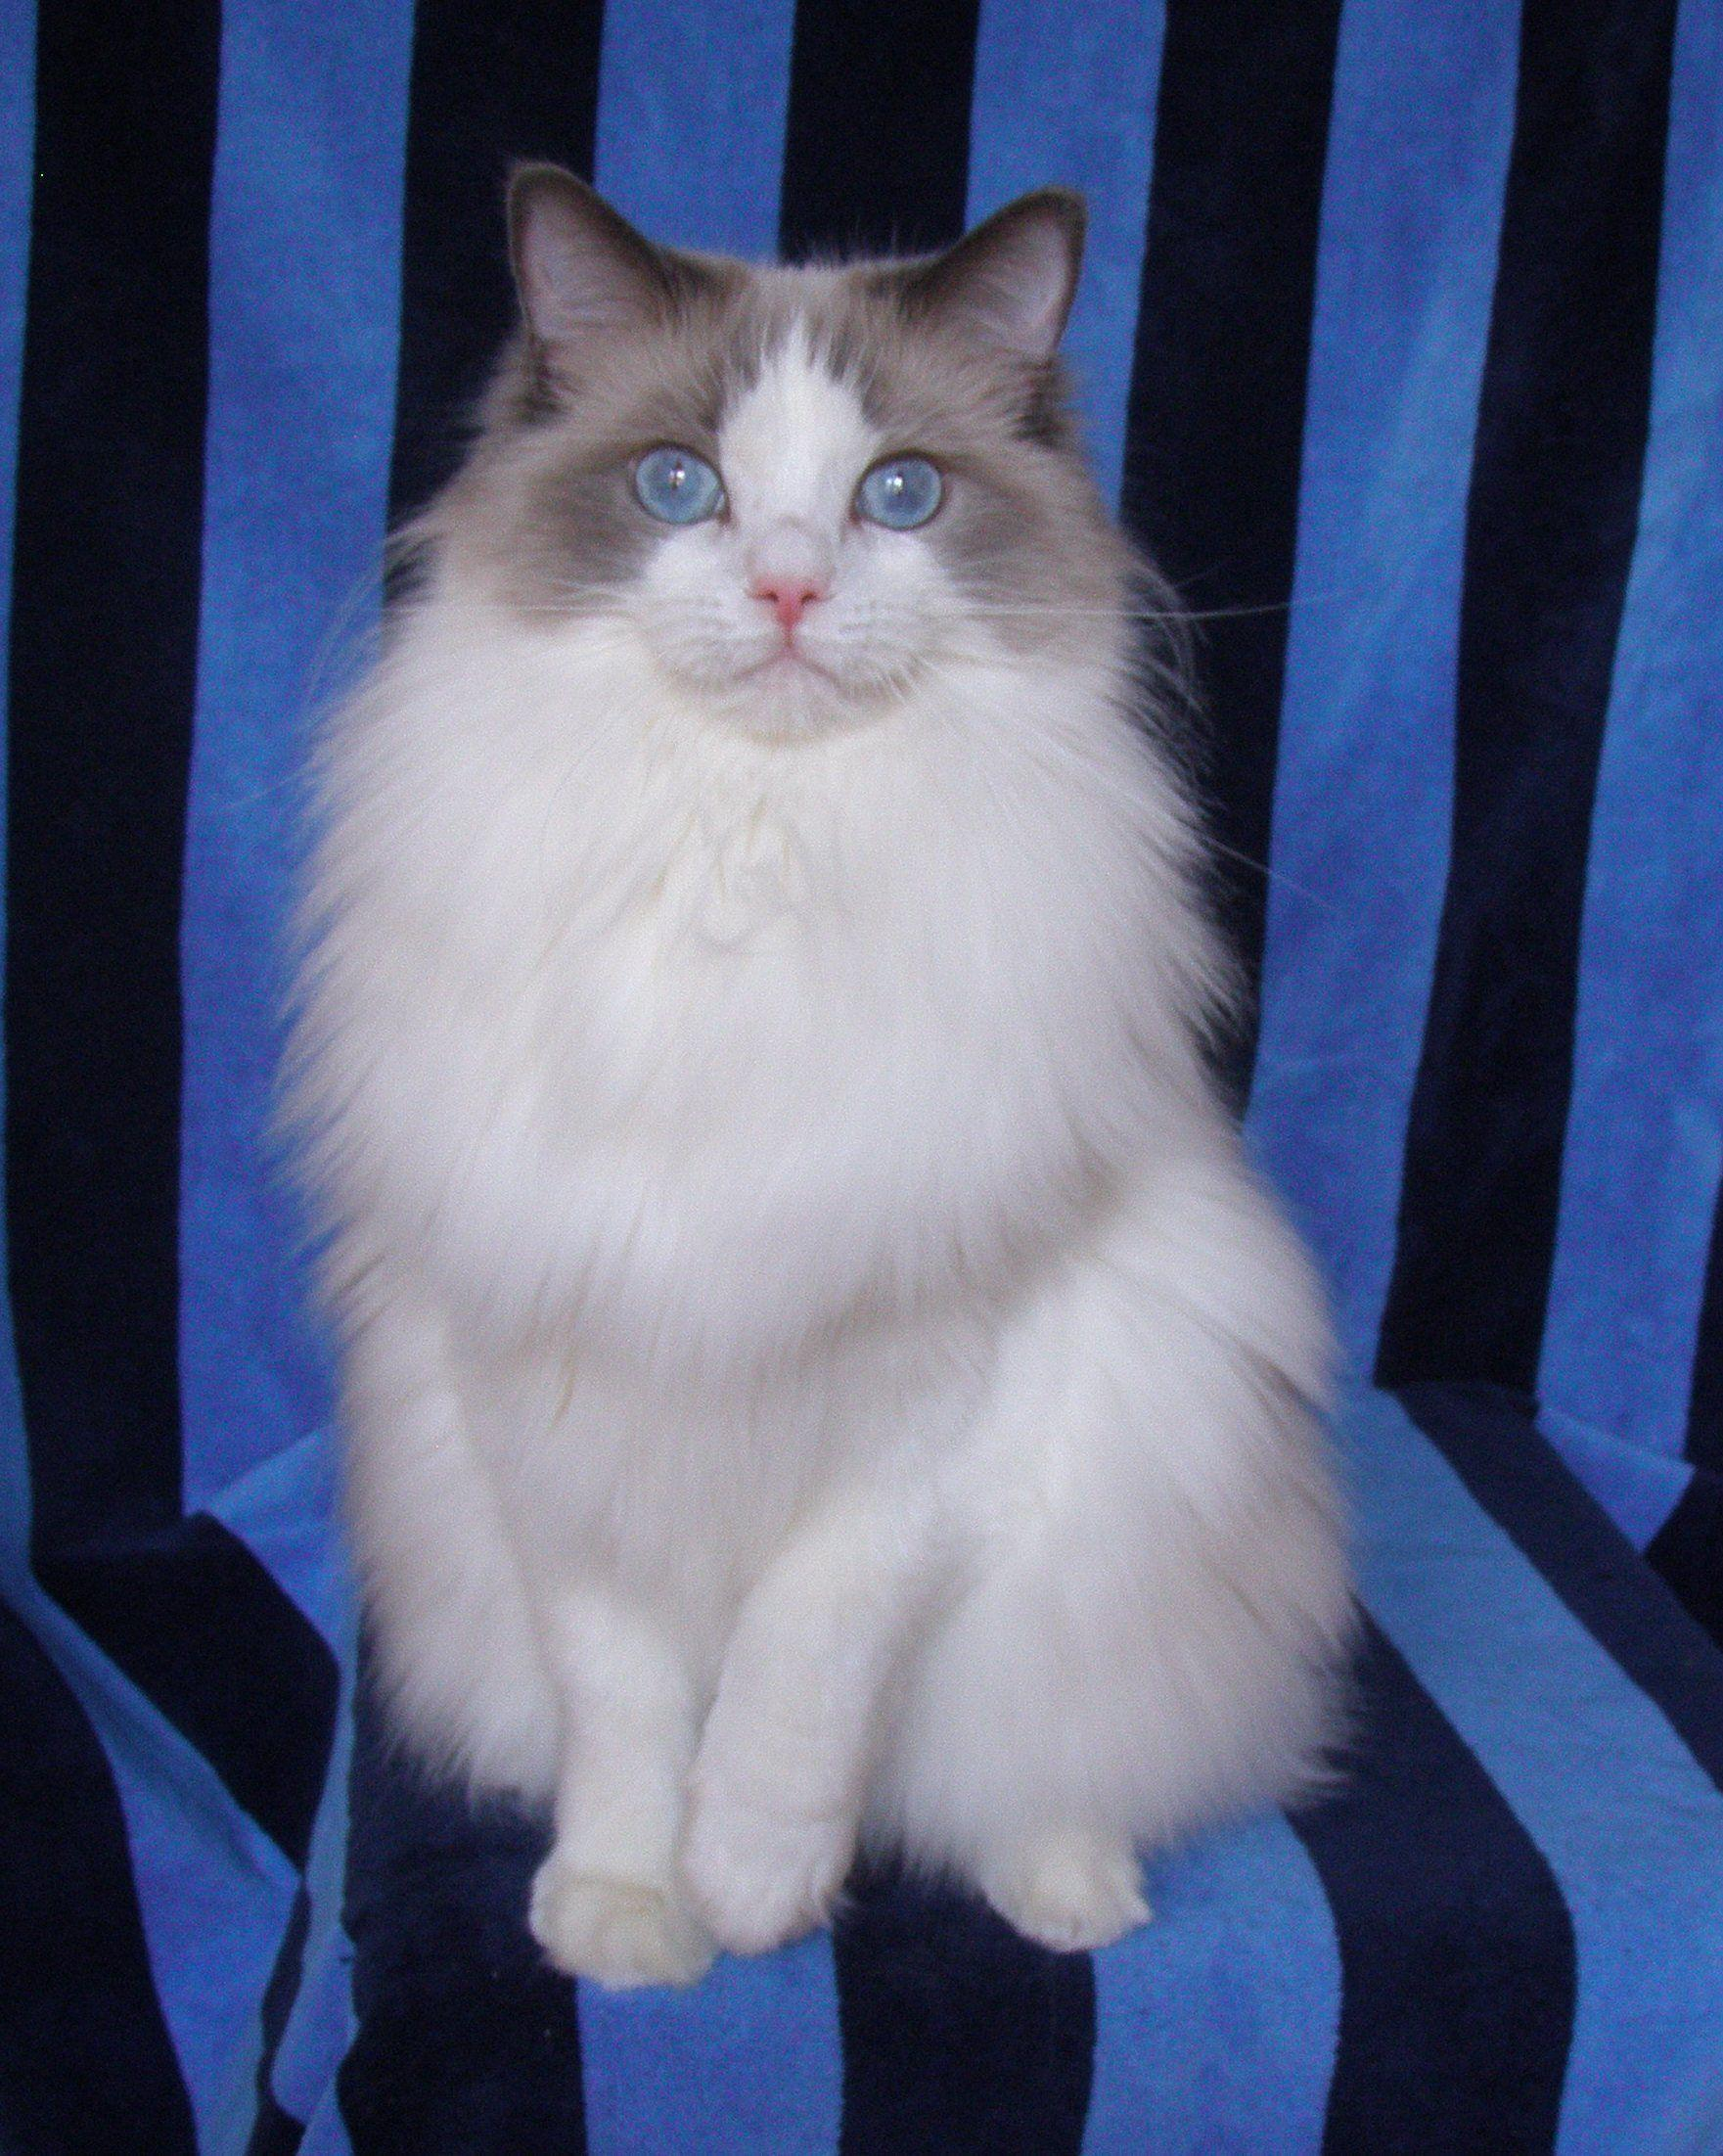ragdoll: (441, 132, 1109, 767)
